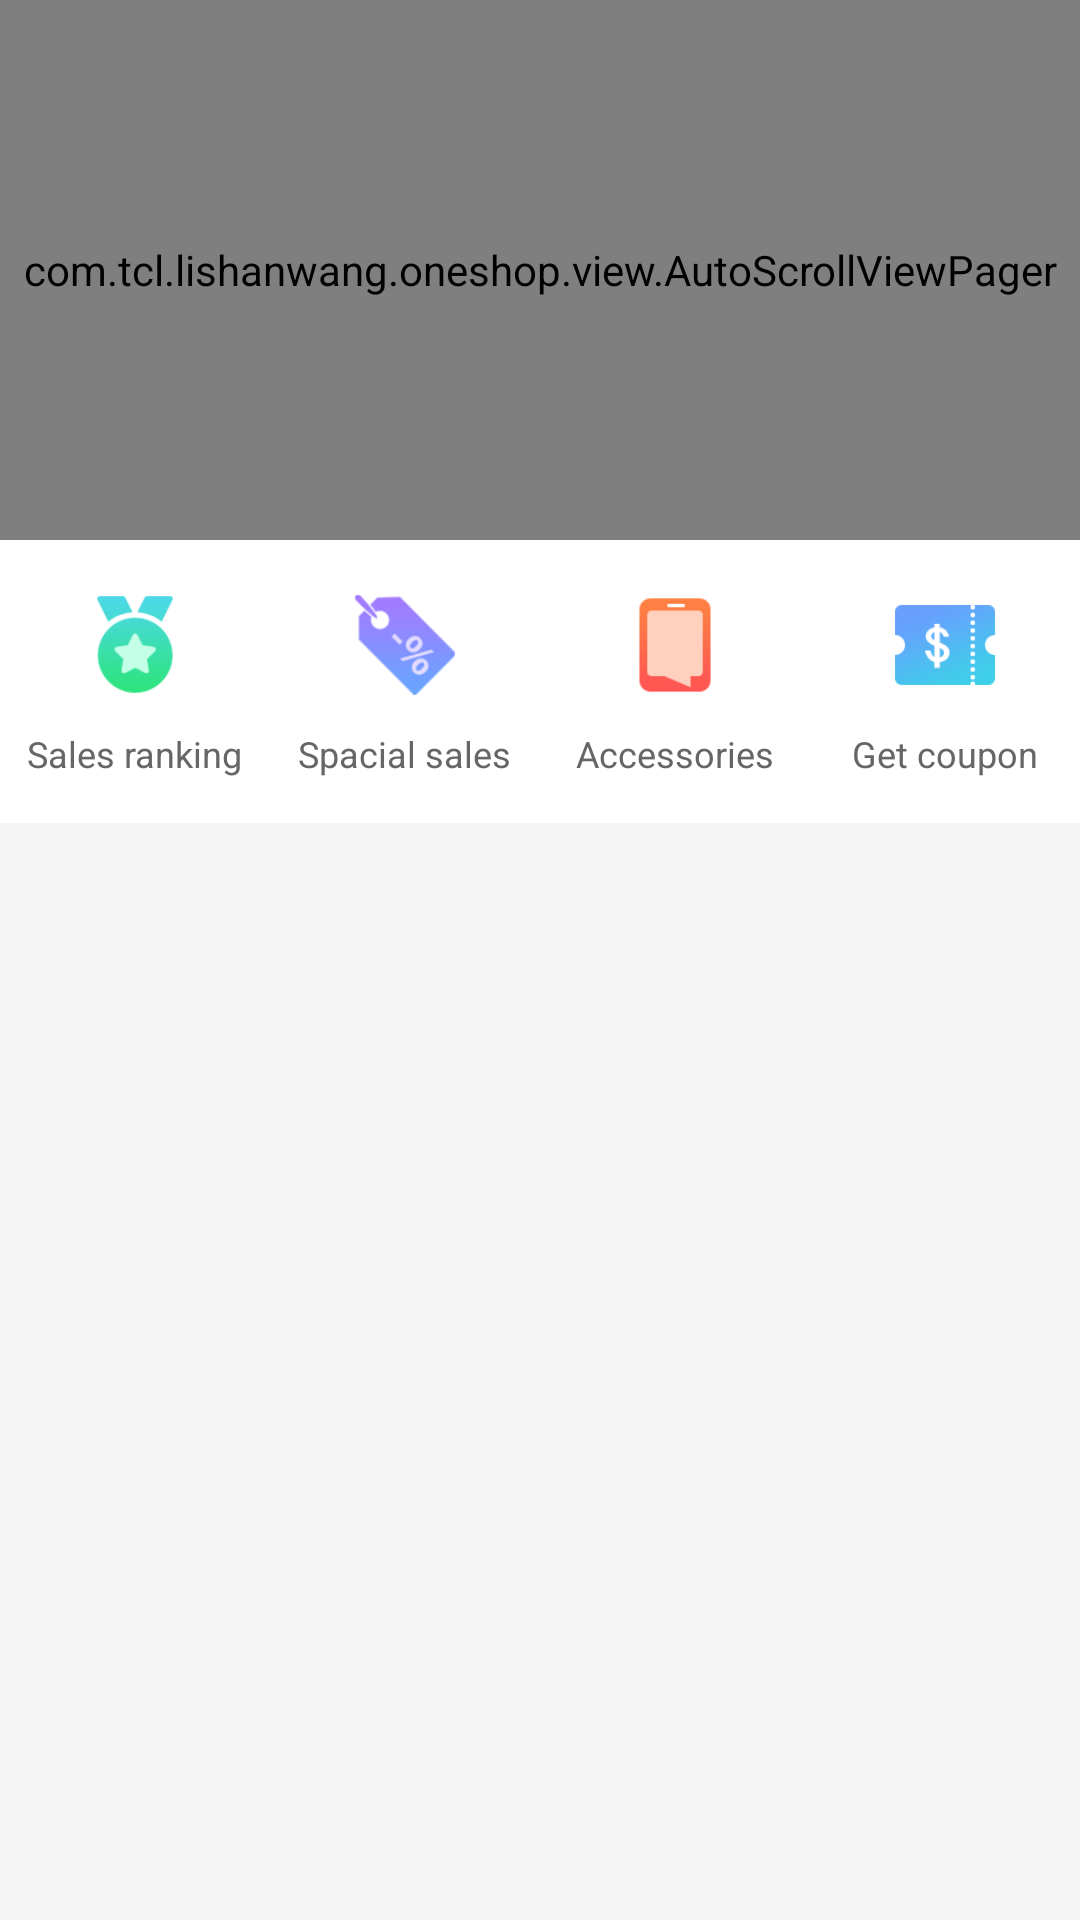

Locate icon controls on the screen. Image size 1080px×1920px, boxes as (x1, y1, x2, y2).
home coupon: (895, 605, 995, 685)
